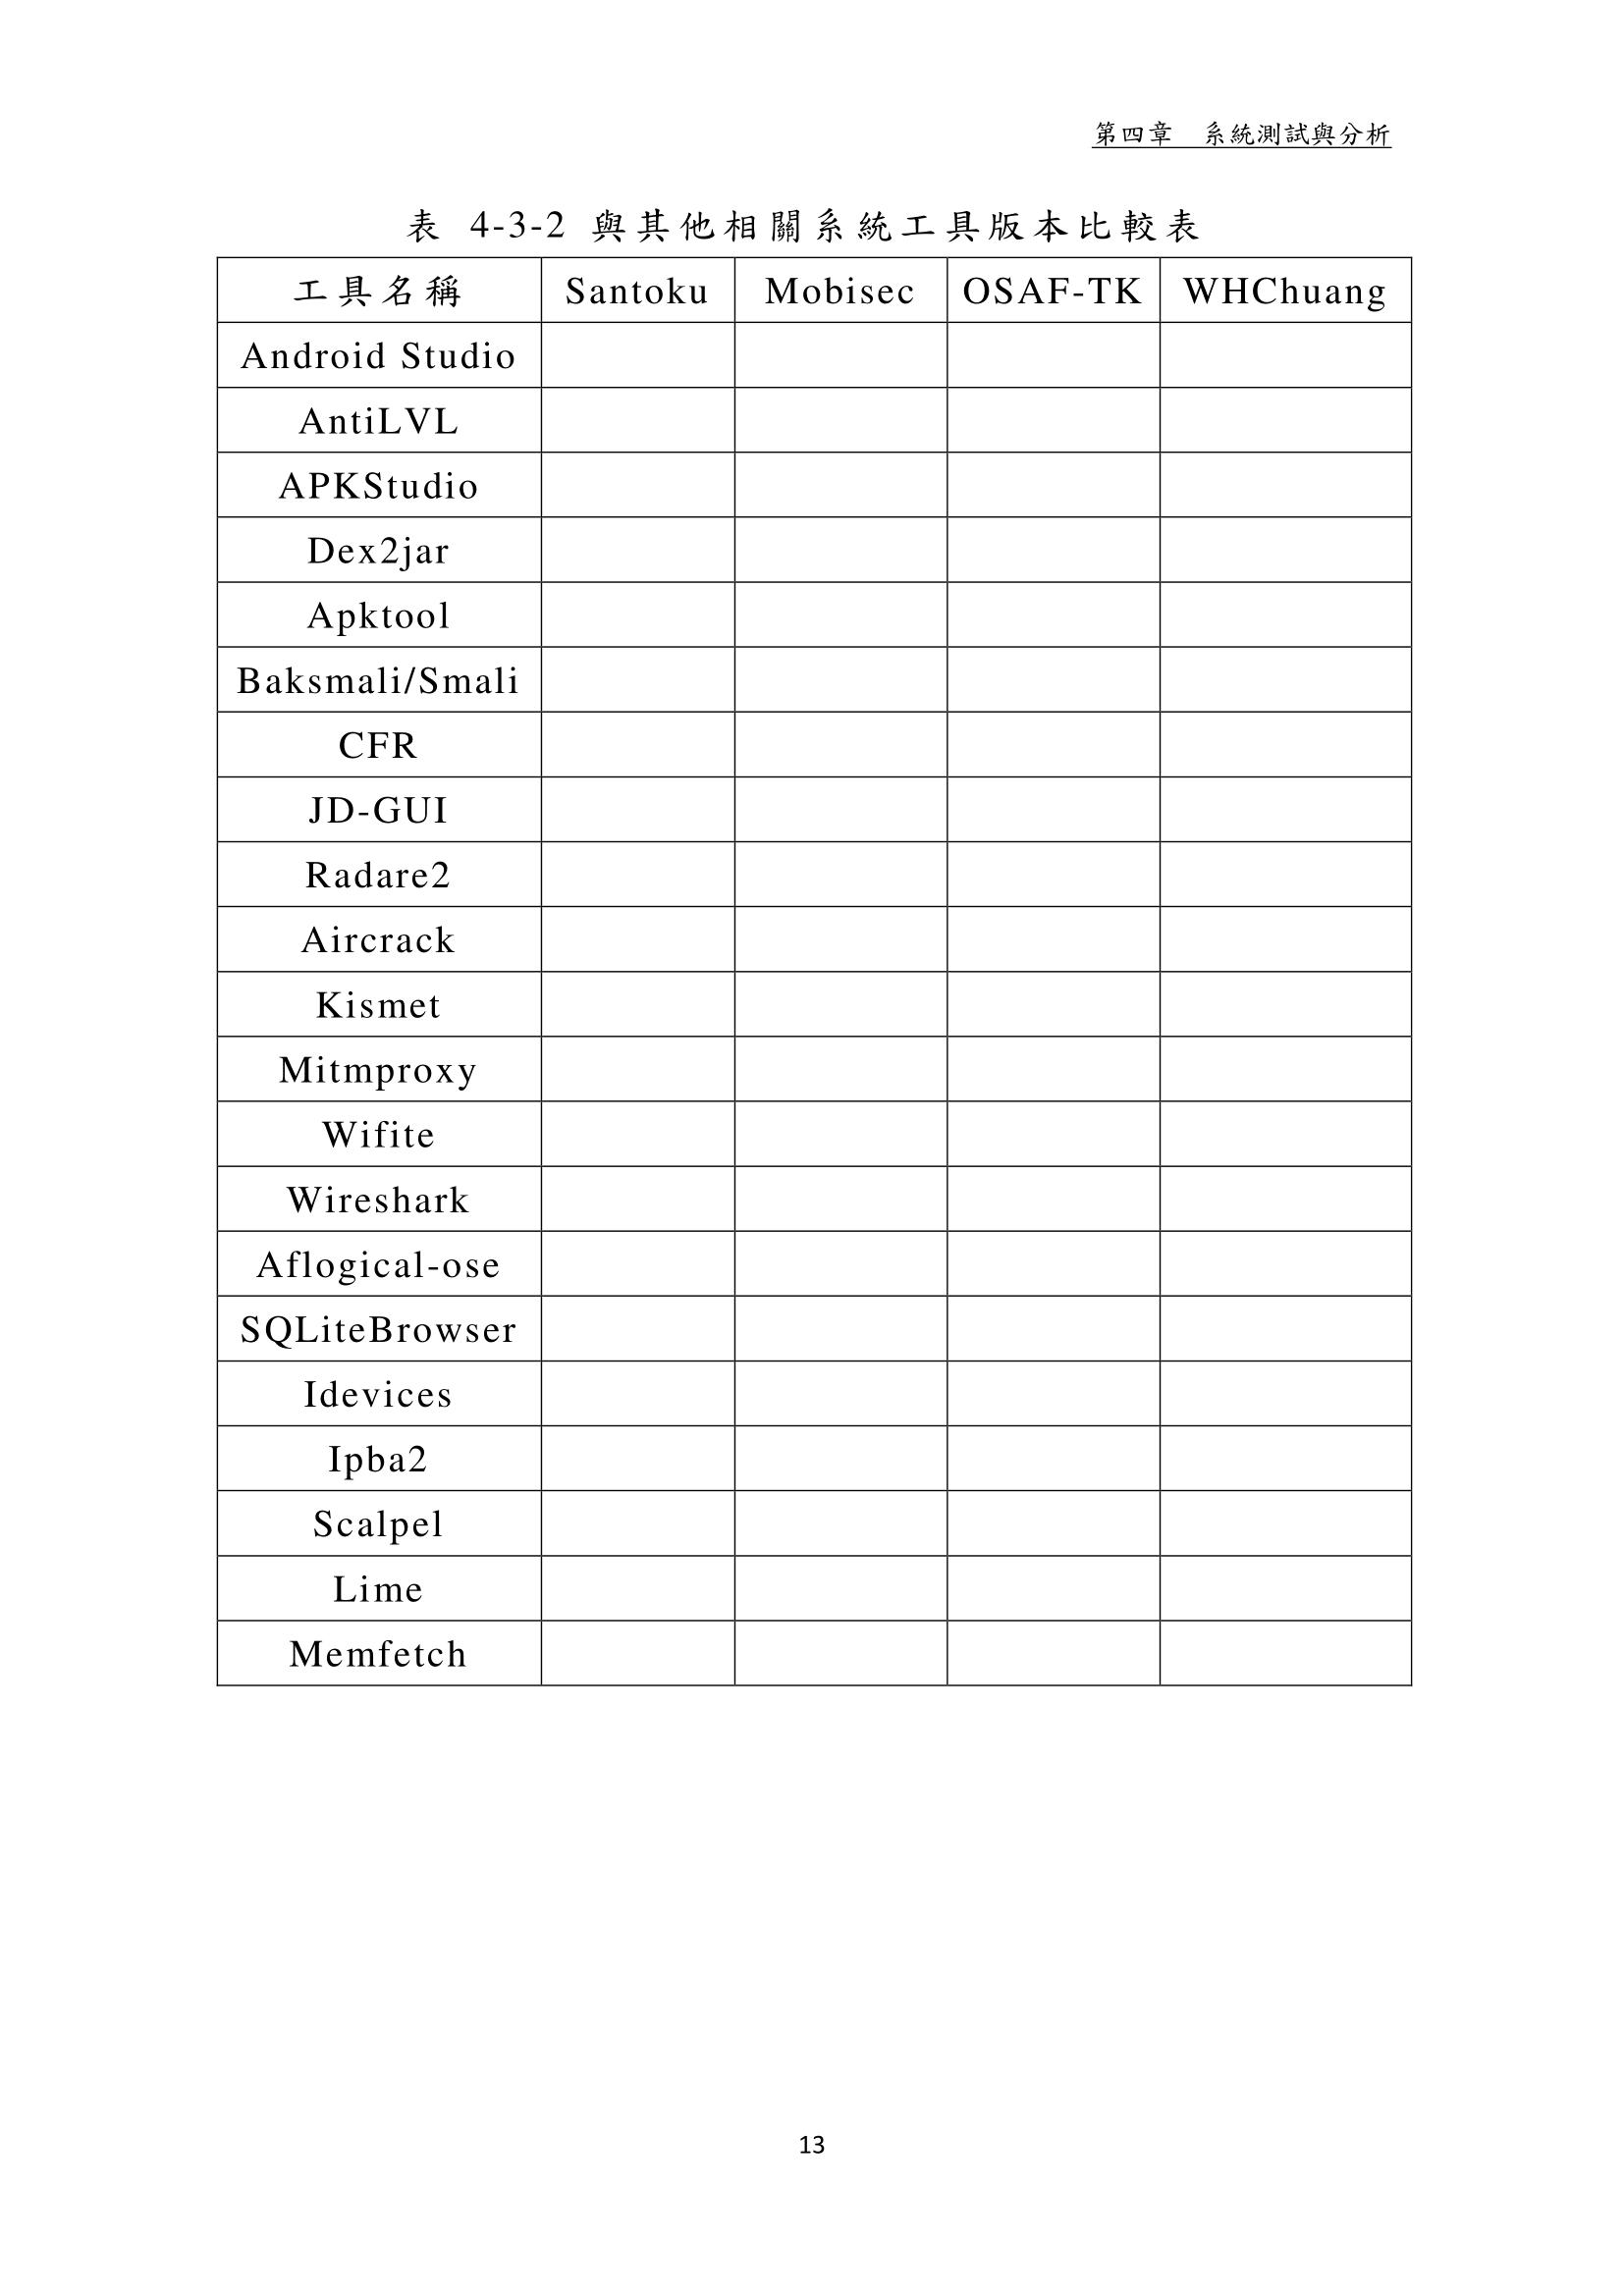table: (207, 248, 1425, 1706)
text: (404, 199, 1209, 244), (1091, 102, 1399, 162)
